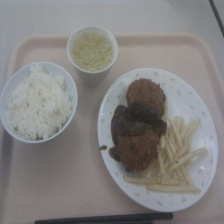rice: (3, 63, 77, 141)
